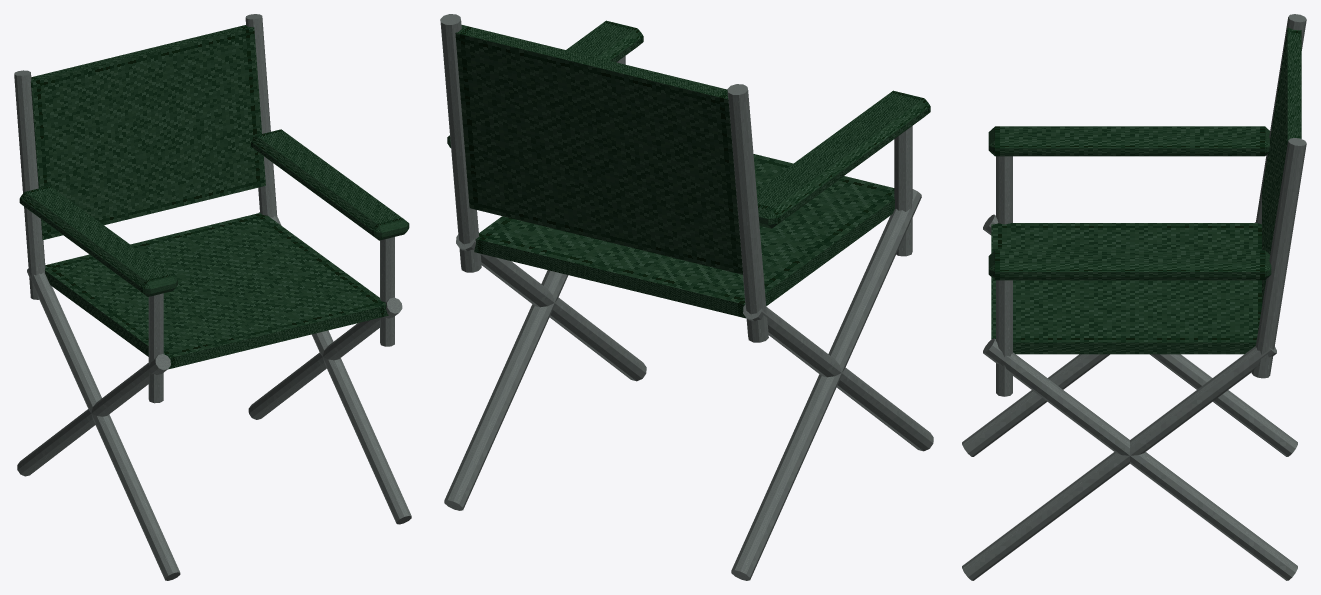
The model's file is level_camp_folding_chair.glb.
3 renders of one model, left to right at view 1: azimuth 30°, elevation 25°; view 2: azimuth 150°, elevation 25°; view 3: azimuth 270°, elevation 25°, orthographic. The views are drawn at different scales.
Parts seen in each view (by area): view 1: level_camp_folding_chair; view 2: level_camp_folding_chair; view 3: level_camp_folding_chair.
Part boxes in pixels (<box>): level_camp_folding_chair: <box>14,14,411,580</box>; level_camp_folding_chair: <box>440,14,933,580</box>; level_camp_folding_chair: <box>962,14,1306,580</box>.
Bounding box in the file's own units: 0.645 × 0.9257 × 0.6587.
Materials: 2 (2 with a texture image).
